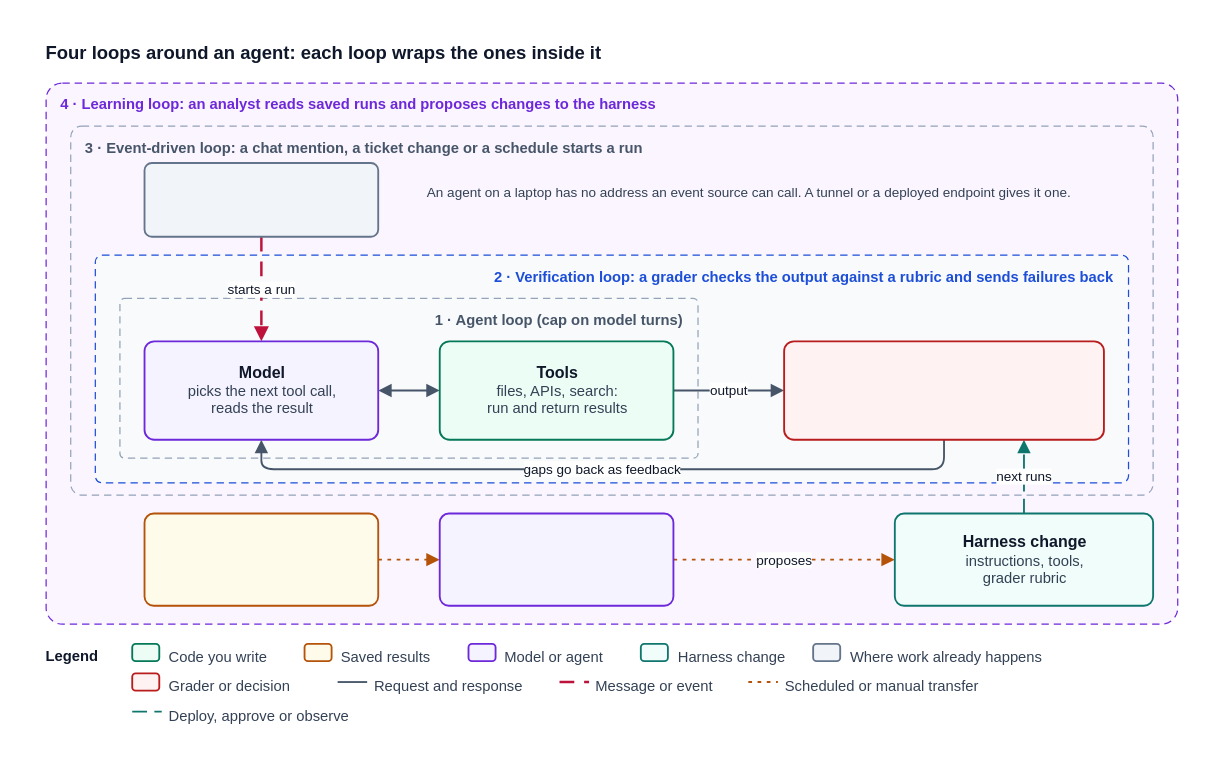
The diagram is 1223 pixels wide and 763 high, and some of its shapes have lost their labels. The centre of each missing label's shape, as x and y in pixels:
Analyst finds gaps that recur across many runs: (556,559)
Event mention, ticket, schedule: (261,199)
Grader pass or fail per criterion, names each gap: (943,390)
Saved runs outputs and the grader's reviews: (261,559)
